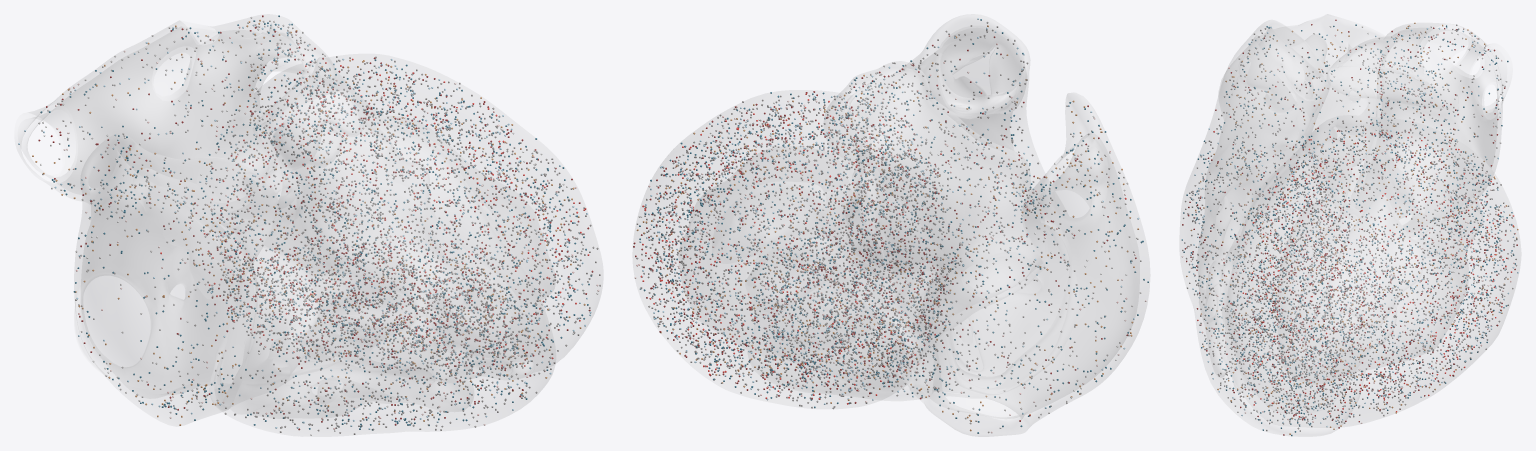
File: 3d-vh-f-heart-UBERON_0000948-all-as-pan-human-azimuth-sphere-hra-pop.glb
The picture shows the model from 3 angles, left to right: view 1: azimuth 30°, elevation 25°; view 2: azimuth 150°, elevation 25°; view 3: azimuth 270°, elevation 25°; orthographic projection. The views are drawn at different scales.
Visible parts, largest first — view 1: VH_F_right_ventricle, VH_F_right_cardiac_atrium, VH_F_left_ventricle, VH_F_left_cardiac_atrium, VH_F_tricuspid_valve, VH_F_aortic_valve, VH_F_pulmonary_valve, VH_F_papillary_muscle_of_heart_ant; view 2: VH_F_left_ventricle, VH_F_right_cardiac_atrium, VH_F_left_cardiac_atrium, VH_F_right_ventricle, VH_F_tricuspid_valve, VH_F_papillary_muscle_of_heart_antlat, VH_F_pulmonary_valve, VH_F_mitral_valve, VH_F_papillary_muscle_of_heart_posmed, VH_F_interventricular_septum; view 3: VH_F_left_ventricle, VH_F_right_ventricle, VH_F_left_cardiac_atrium, VH_F_papillary_muscle_of_heart_antlat, VH_F_right_cardiac_atrium, VH_F_aortic_valve, VH_F_mitral_valve, VH_F_interventricular_septum, VH_F_pulmonary_valve, VH_F_papillary_muscle_of_heart_posmed.
Part boxes in pixels (x1=…): VH_F_right_ventricle: x1=210, y1=58, x2=555, y2=436; VH_F_right_cardiac_atrium: x1=74, y1=133, x2=277, y2=426; VH_F_left_ventricle: x1=254, y1=54, x2=602, y2=371; VH_F_left_cardiac_atrium: x1=18, y1=14, x2=335, y2=237; VH_F_tricuspid_valve: x1=215, y1=246, x2=336, y2=405; VH_F_aortic_valve: x1=204, y1=112, x2=297, y2=225; VH_F_pulmonary_valve: x1=271, y1=92, x2=363, y2=170; VH_F_papillary_muscle_of_heart_ant: x1=369, y1=318, x2=456, y2=372; VH_F_left_ventricle: x1=633, y1=90, x2=911, y2=408; VH_F_right_cardiac_atrium: x1=891, y1=93, x2=1149, y2=436; VH_F_left_cardiac_atrium: x1=824, y1=61, x2=1045, y2=341; VH_F_right_ventricle: x1=748, y1=14, x2=1067, y2=400; VH_F_tricuspid_valve: x1=951, y1=232, x2=1068, y2=375; VH_F_papillary_muscle_of_heart_antlat: x1=712, y1=182, x2=825, y2=263; VH_F_pulmonary_valve: x1=939, y1=28, x2=1026, y2=118; VH_F_mitral_valve: x1=826, y1=196, x2=944, y2=308; VH_F_papillary_muscle_of_heart_posmed: x1=746, y1=238, x2=836, y2=313; VH_F_interventricular_septum: x1=756, y1=187, x2=904, y2=391; VH_F_left_ventricle: x1=1225, y1=115, x2=1520, y2=427; VH_F_right_ventricle: x1=1180, y1=20, x2=1364, y2=436; VH_F_left_cardiac_atrium: x1=1327, y1=23, x2=1506, y2=217; VH_F_papillary_muscle_of_heart_antlat: x1=1328, y1=196, x2=1422, y2=327; VH_F_right_cardiac_atrium: x1=1219, y1=14, x2=1482, y2=251; VH_F_aortic_valve: x1=1300, y1=82, x2=1376, y2=166; VH_F_mitral_valve: x1=1356, y1=154, x2=1437, y2=237; VH_F_interventricular_septum: x1=1221, y1=140, x2=1354, y2=412; VH_F_pulmonary_valve: x1=1238, y1=37, x2=1297, y2=114; VH_F_papillary_muscle_of_heart_posmed: x1=1305, y1=290, x2=1396, y2=362.
Bounding box in the file's own units: 0.1427 × 0.11 × 0.1015.
